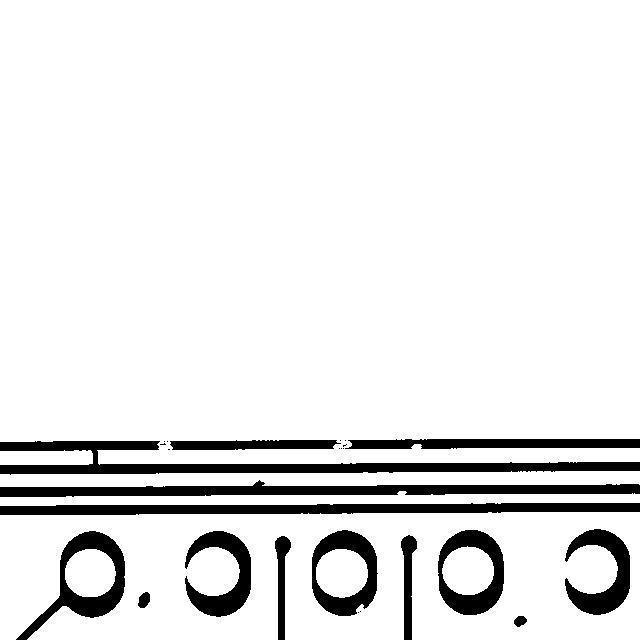copper: (128, 582, 159, 617), (504, 606, 536, 636)
mousebite: (346, 594, 373, 622), (401, 434, 431, 458), (387, 481, 416, 504)
open: (323, 430, 361, 458), (147, 431, 182, 459)
short: (81, 435, 107, 474)
spur: (242, 470, 274, 498)
